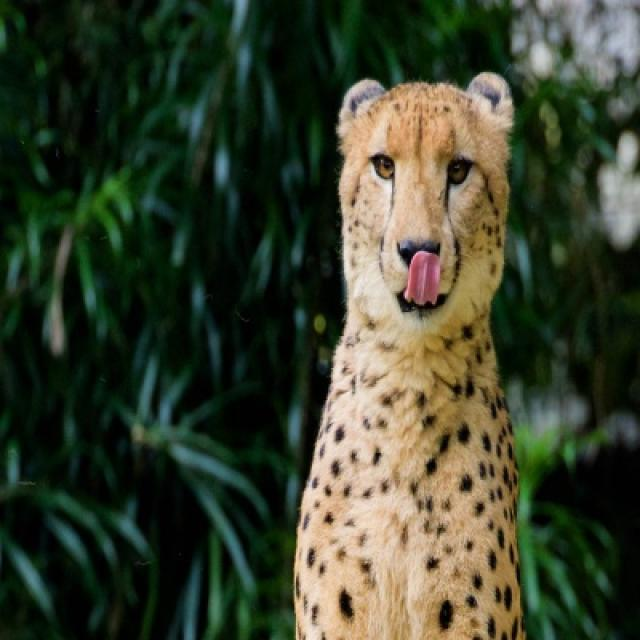Cheetah: (296, 74, 525, 638)
